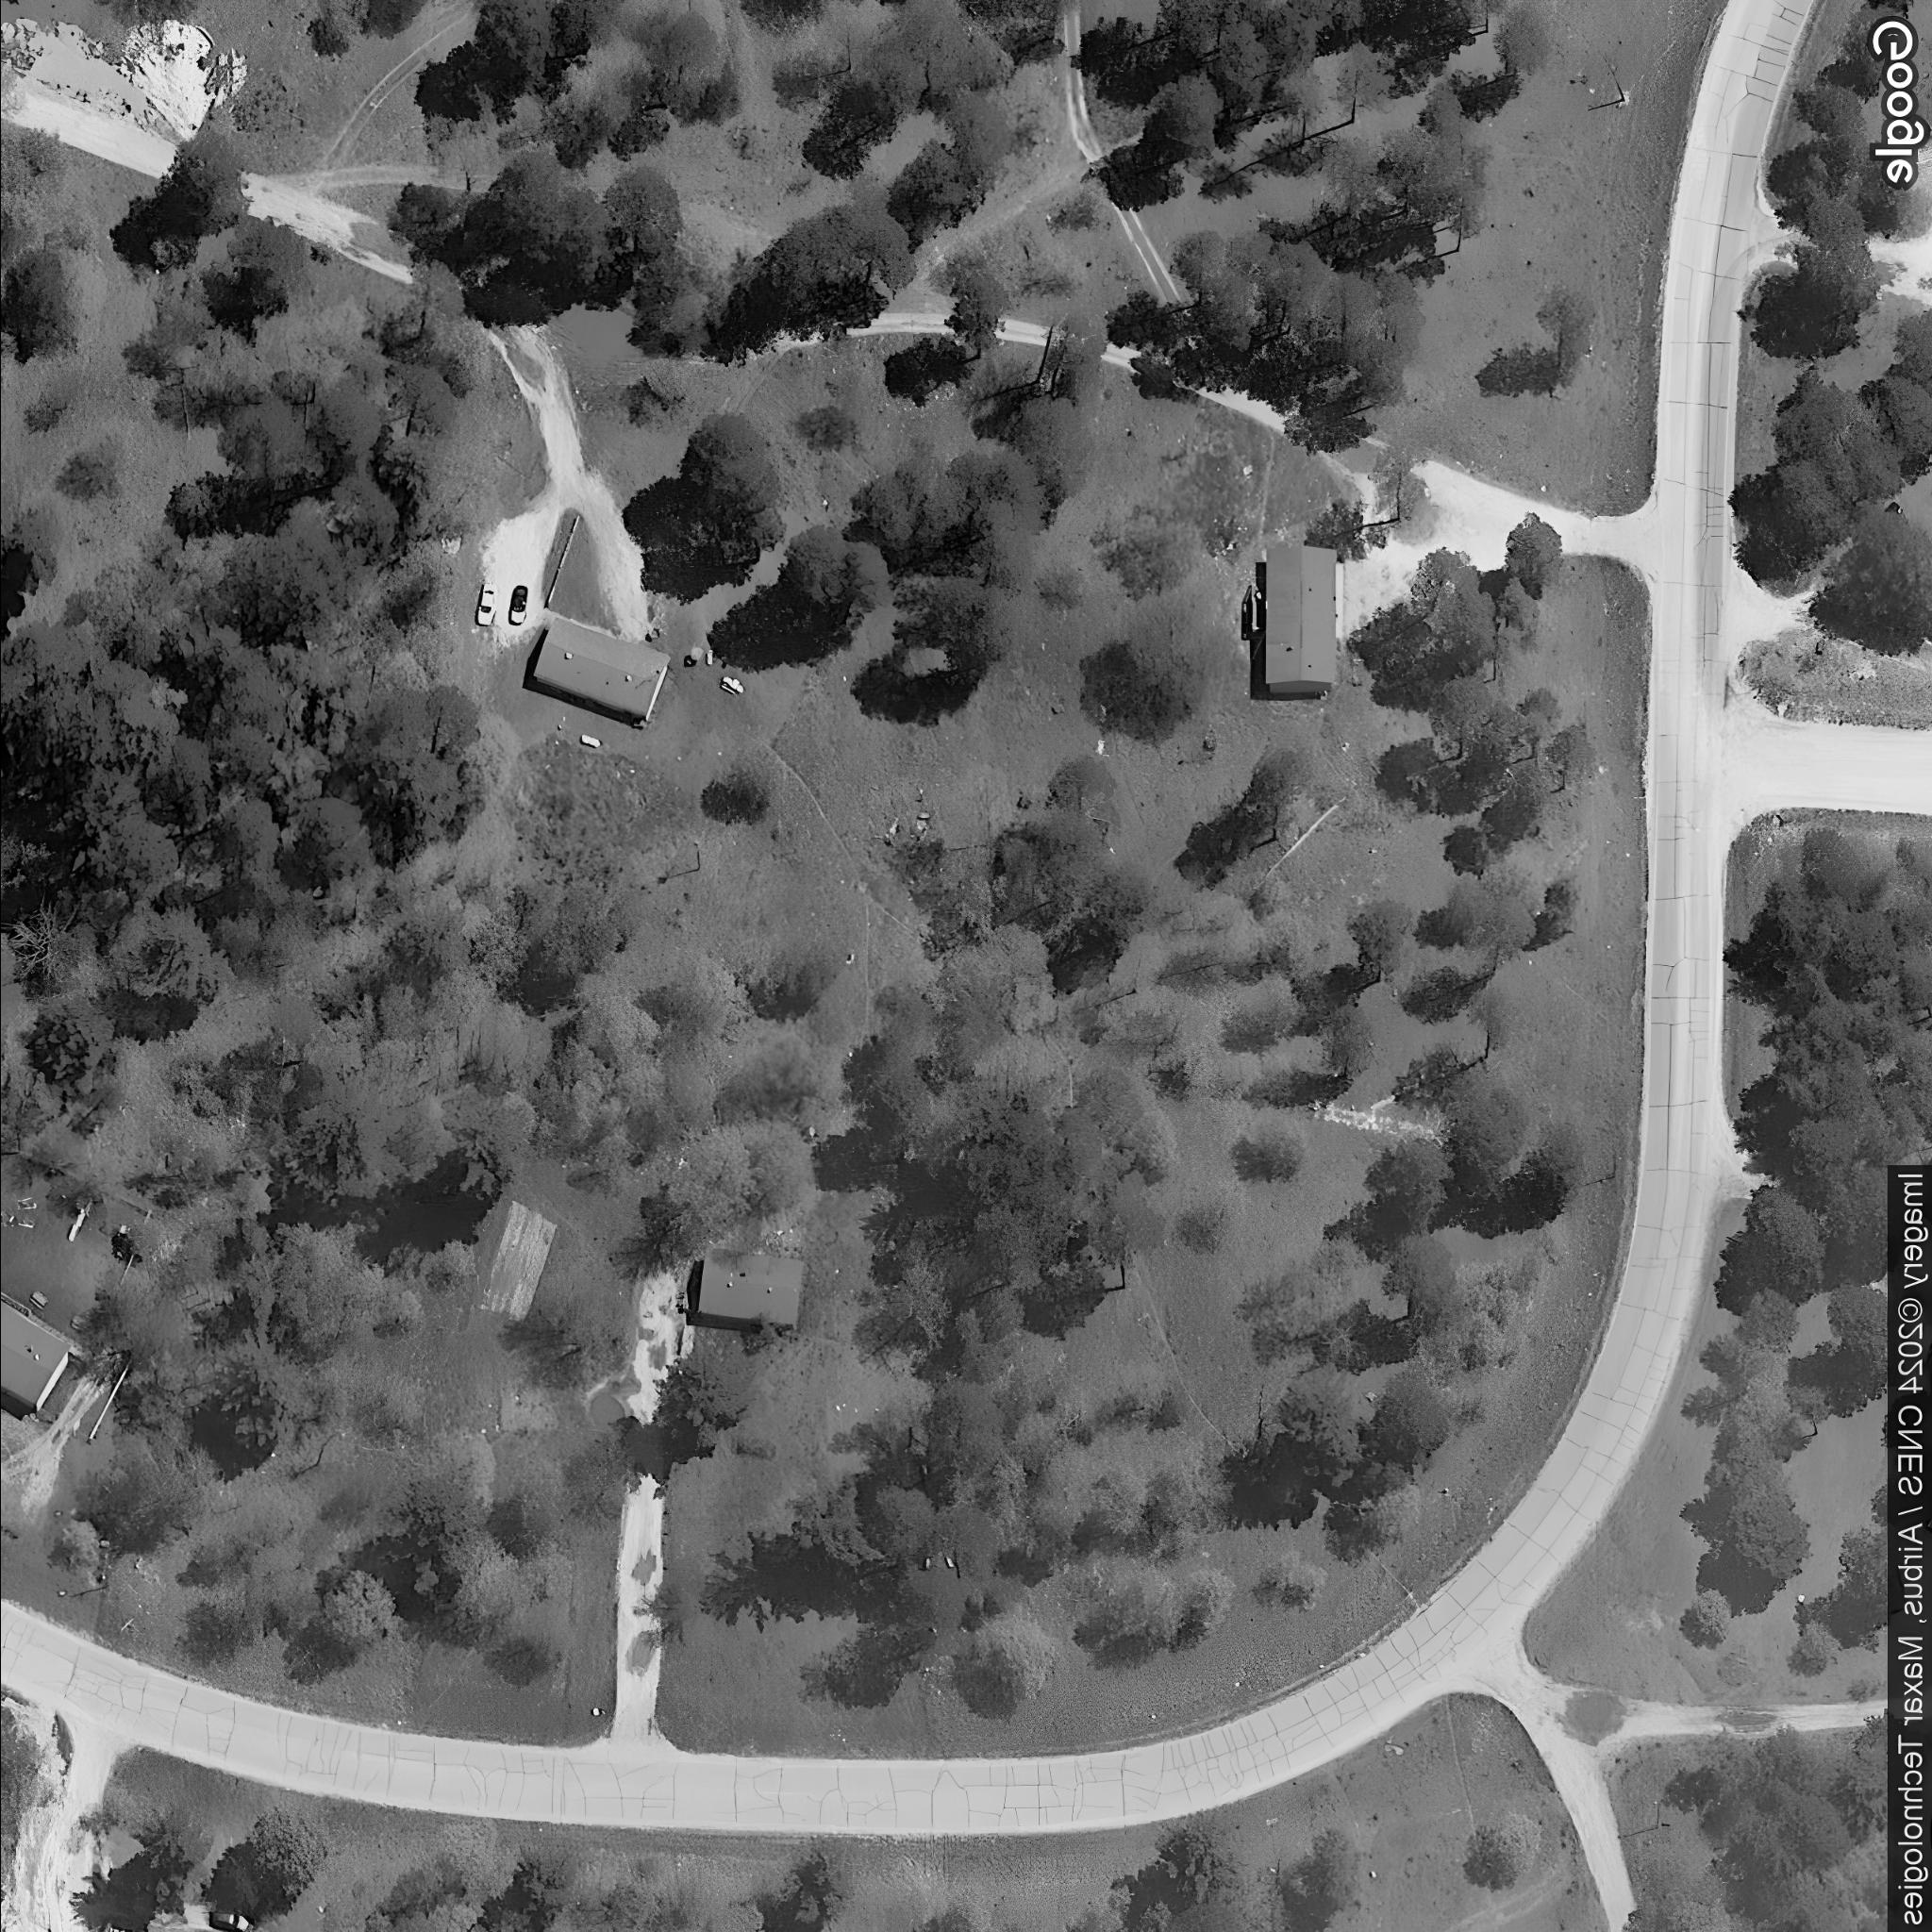House: (529, 614, 674, 729), (1261, 545, 1338, 695), (694, 1242, 809, 1332), (0, 1297, 76, 1417)
Propane: (575, 732, 605, 752)
